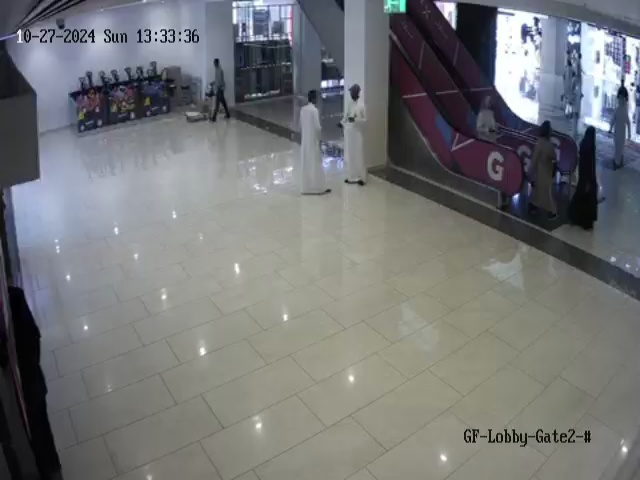female: (572, 120, 607, 232)
male: (339, 78, 379, 191), (298, 90, 332, 195), (525, 121, 559, 221), (468, 90, 506, 154), (610, 81, 631, 170), (210, 58, 231, 122)
